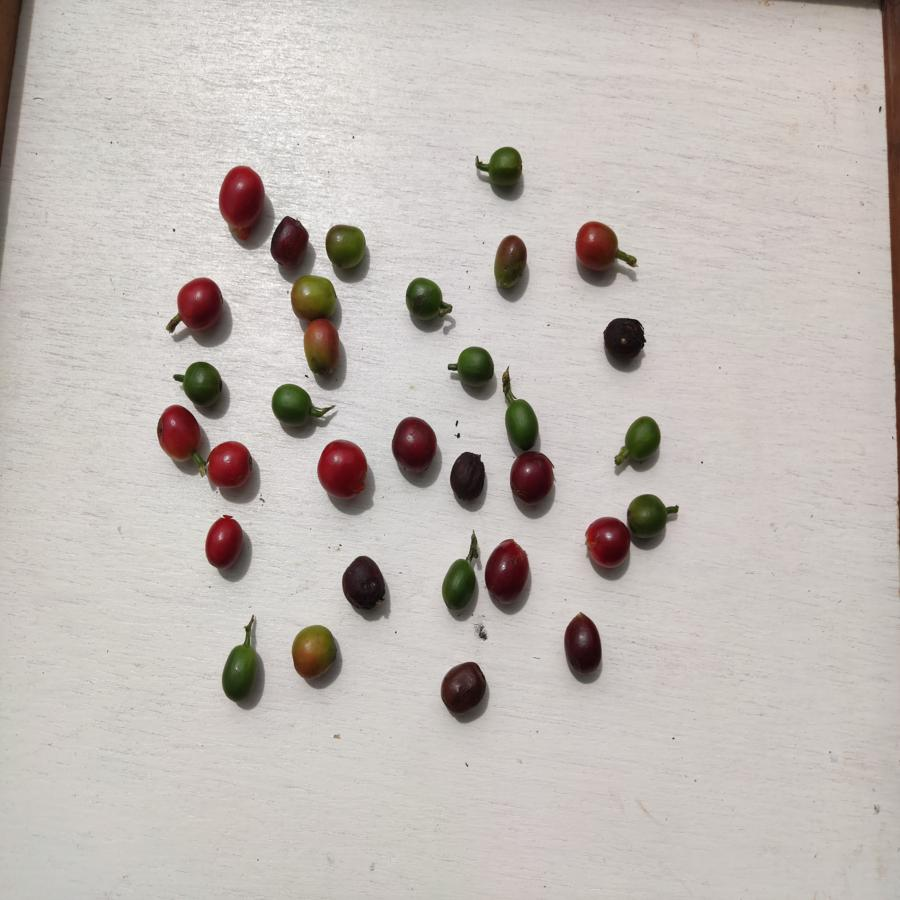Inmaduro: (438, 556, 480, 613), (219, 644, 259, 703), (626, 491, 671, 543), (404, 273, 444, 330), (269, 382, 314, 431), (502, 398, 541, 452), (182, 360, 224, 409), (457, 342, 496, 391), (624, 414, 661, 465), (487, 145, 526, 187)
Maduro: (317, 436, 369, 504), (216, 162, 266, 231), (174, 275, 226, 336), (154, 403, 203, 465), (202, 510, 249, 570), (584, 515, 631, 574), (206, 438, 257, 491), (576, 219, 621, 276)
Pinton: (289, 621, 339, 684), (298, 319, 348, 379), (489, 235, 533, 291), (324, 224, 370, 269), (289, 276, 339, 316)
Sobremaduro: (483, 538, 532, 606), (339, 554, 387, 614), (436, 661, 489, 714), (391, 414, 439, 472), (599, 312, 649, 364), (564, 611, 604, 676), (509, 453, 556, 502), (269, 214, 310, 270), (449, 447, 488, 504)
